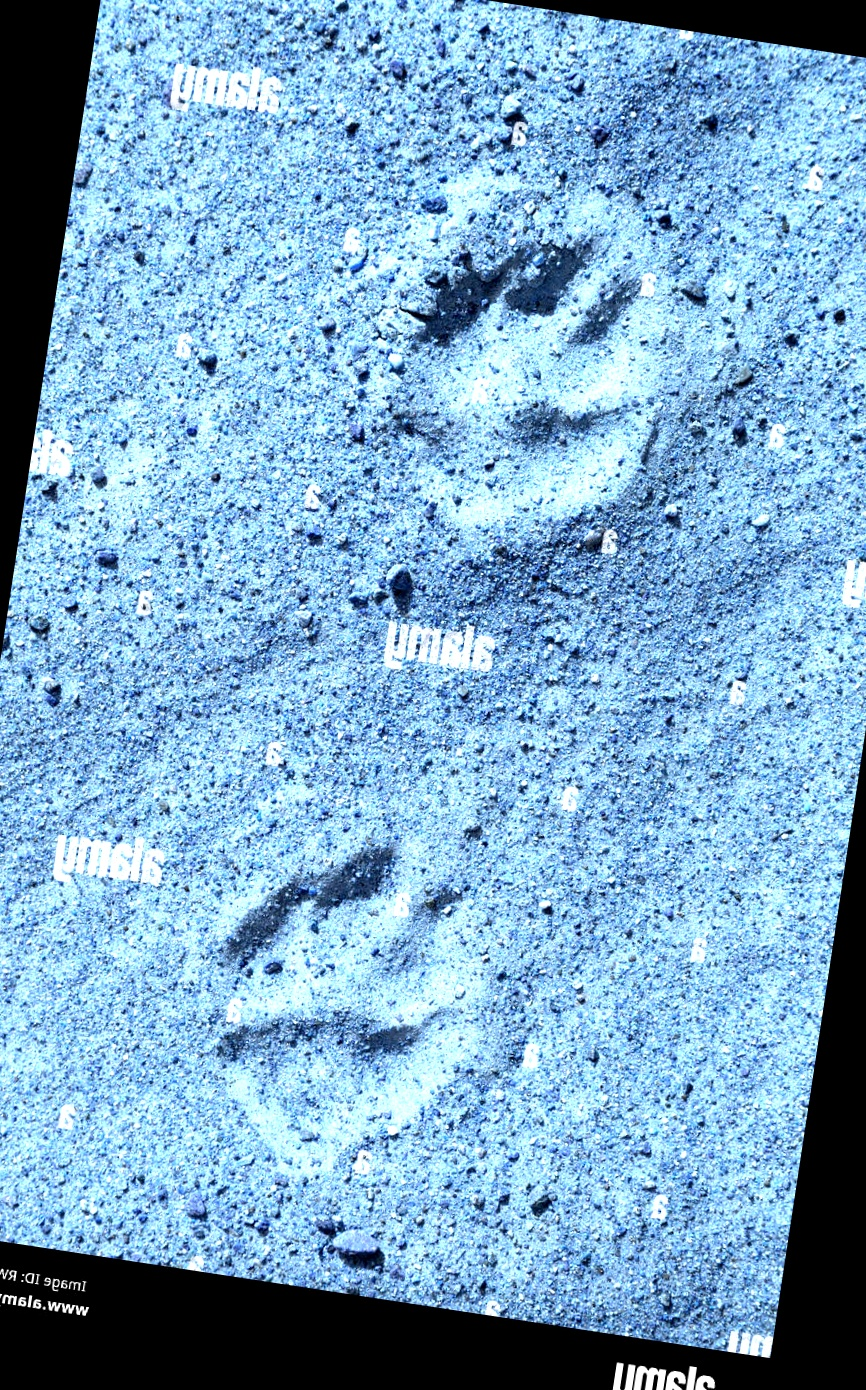loup: (295, 127, 816, 623), (71, 773, 595, 1234)
